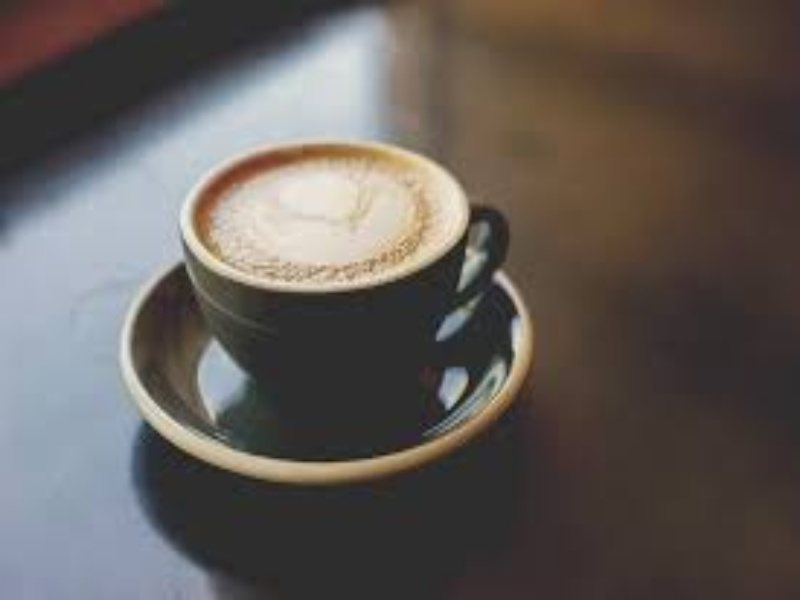cup: (172, 123, 518, 404)
